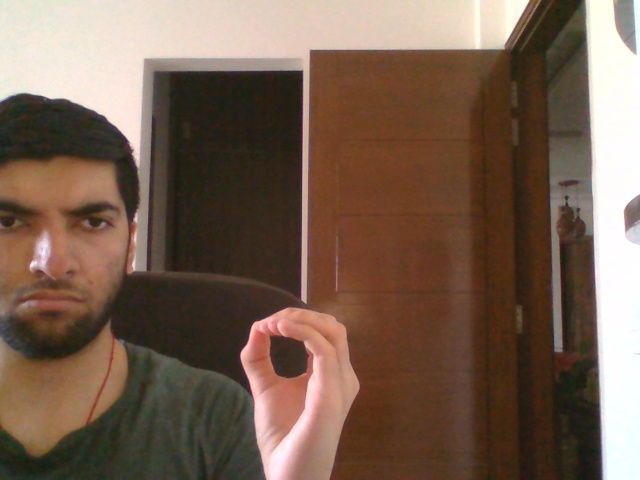LetterO: (238, 306, 360, 478)
